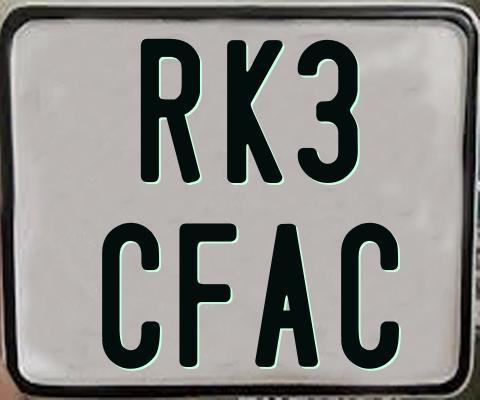3: (296, 37, 361, 186)
A: (255, 221, 320, 365)
C: (338, 220, 399, 371), (101, 222, 160, 374)
F: (178, 222, 237, 368)
K: (226, 38, 282, 182)
R: (140, 37, 203, 187)
